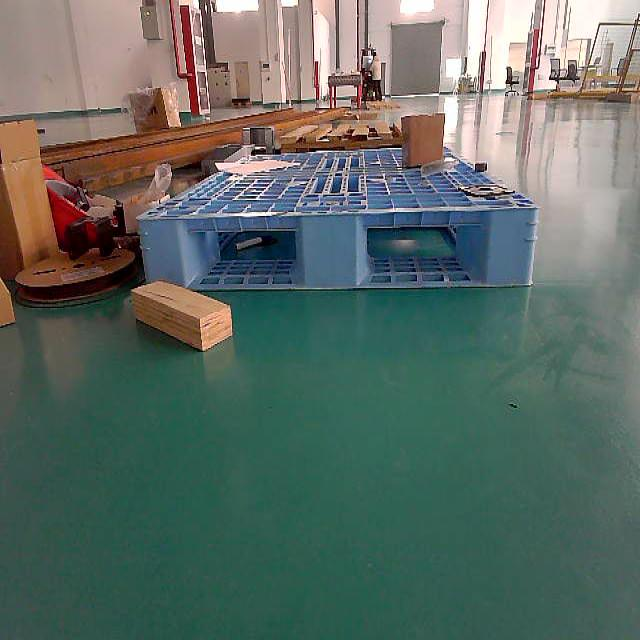euro: (279, 116, 402, 152)
